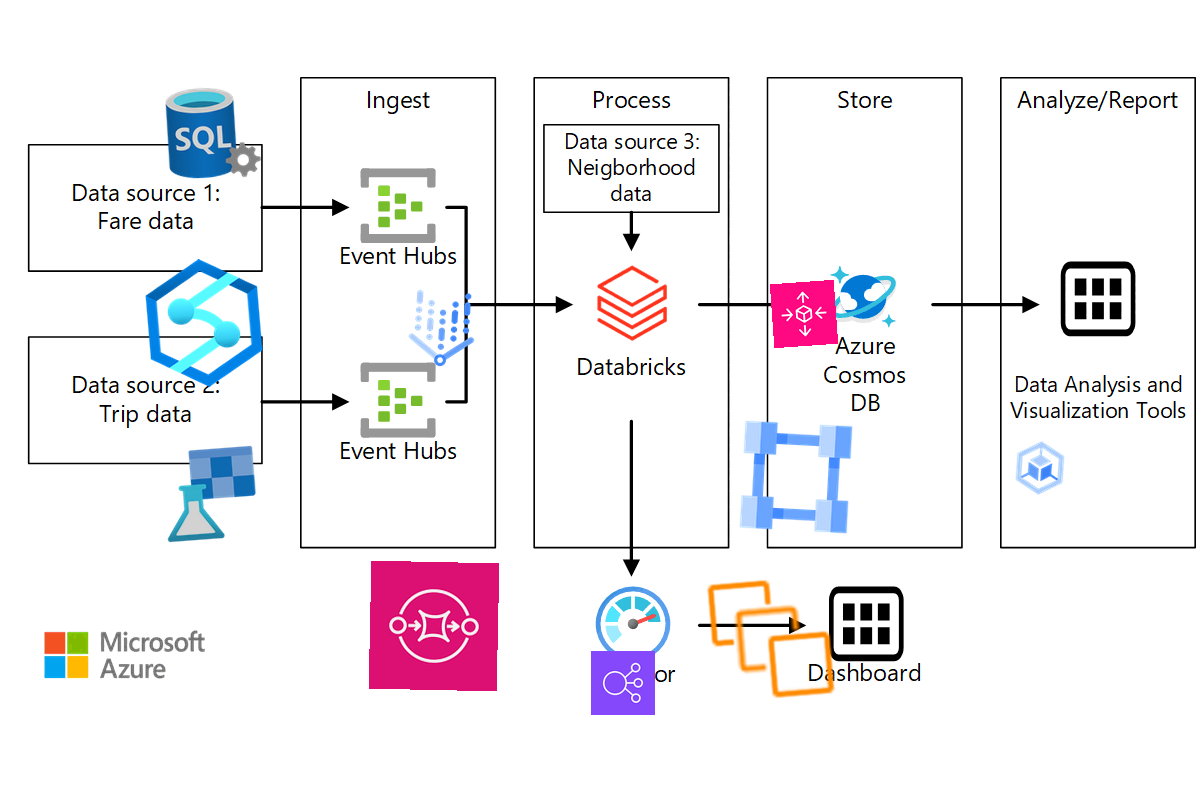aws_amazon_simple_queue_service: (368, 560, 500, 692)
aws_auto_scaling: (769, 279, 839, 349)
aws_ec2_instances: (701, 569, 841, 709)
aws_elastic_load_balancing: (590, 650, 656, 716)
azure_machine_learning_studio_workspaces: (158, 442, 262, 546)
azure_sql_server: (162, 82, 264, 184)
azure_synapse_analytics: (134, 253, 274, 393)
gcp_google_kubernetes_engine: (1005, 433, 1075, 503)
gcp_vertex_ai: (391, 278, 493, 380)
gcp_virtual_private_cloud: (728, 409, 864, 545)
